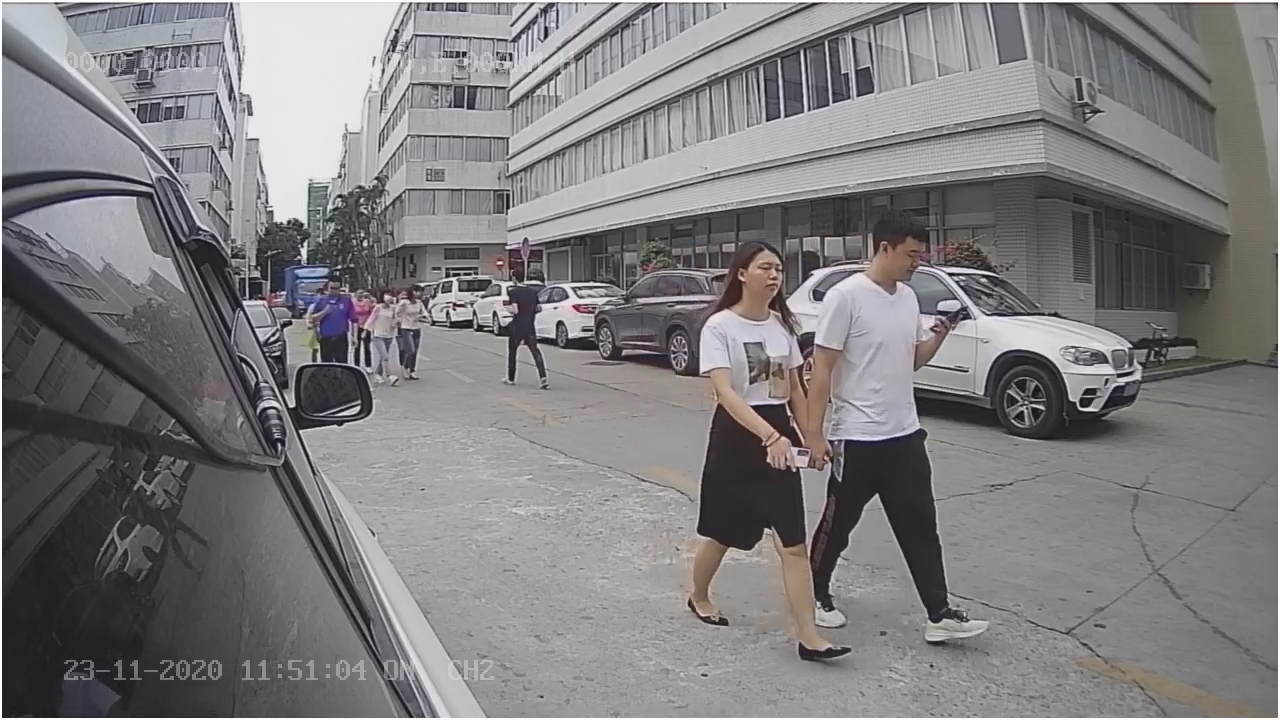person: (683, 231, 851, 662), (495, 267, 555, 392)
